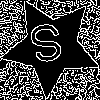S: (26, 21, 69, 74)
